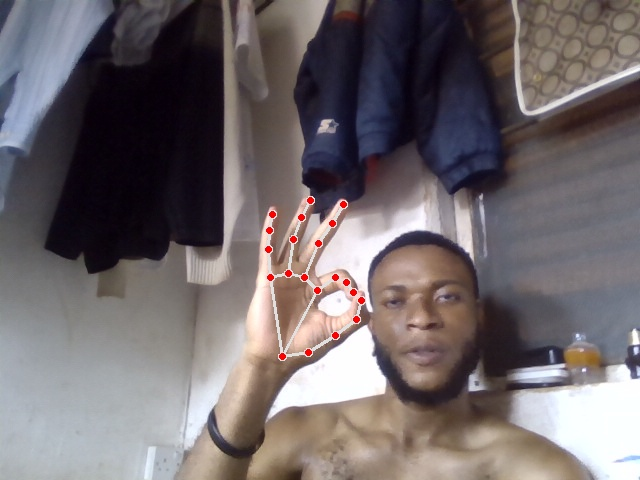okay: (245, 193, 369, 371)
